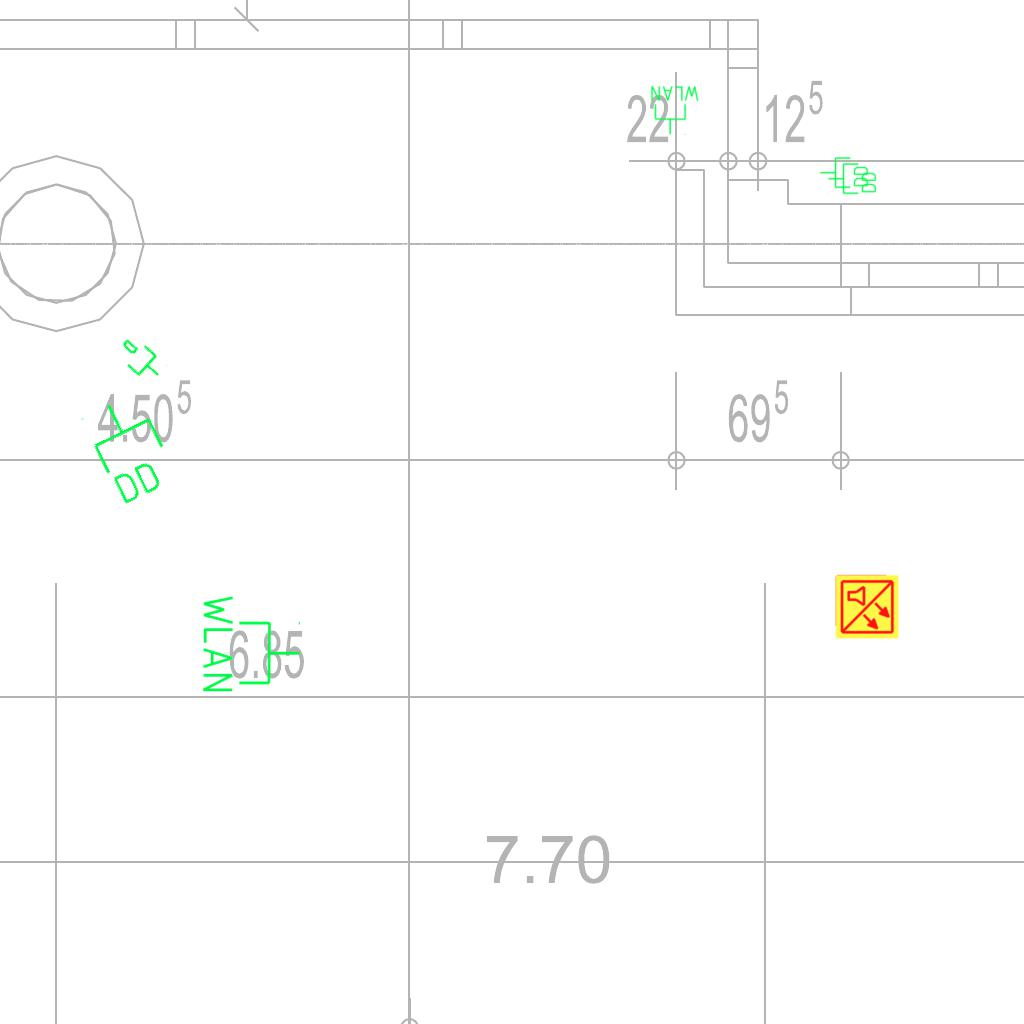Datenanschluss_einfach: (110, 330, 170, 390)
Datenanschluss_zweifach: (75, 388, 184, 511), (819, 156, 870, 190), (827, 162, 878, 196)
OKW_Multisensormelder_(Kombination_optischer_Rauch-Kahlenmonoxid_Waerme-Melder): (834, 574, 900, 640)
WLAN: (199, 591, 303, 696), (649, 84, 701, 136)
